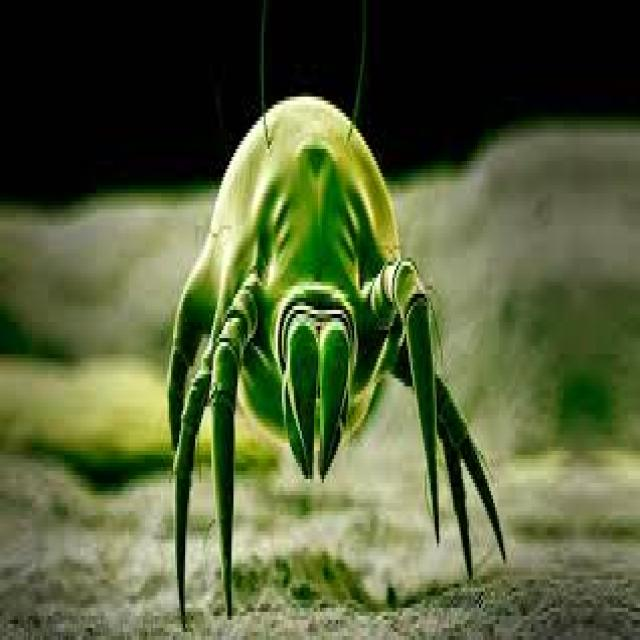Mites: (162, 40, 514, 633)
